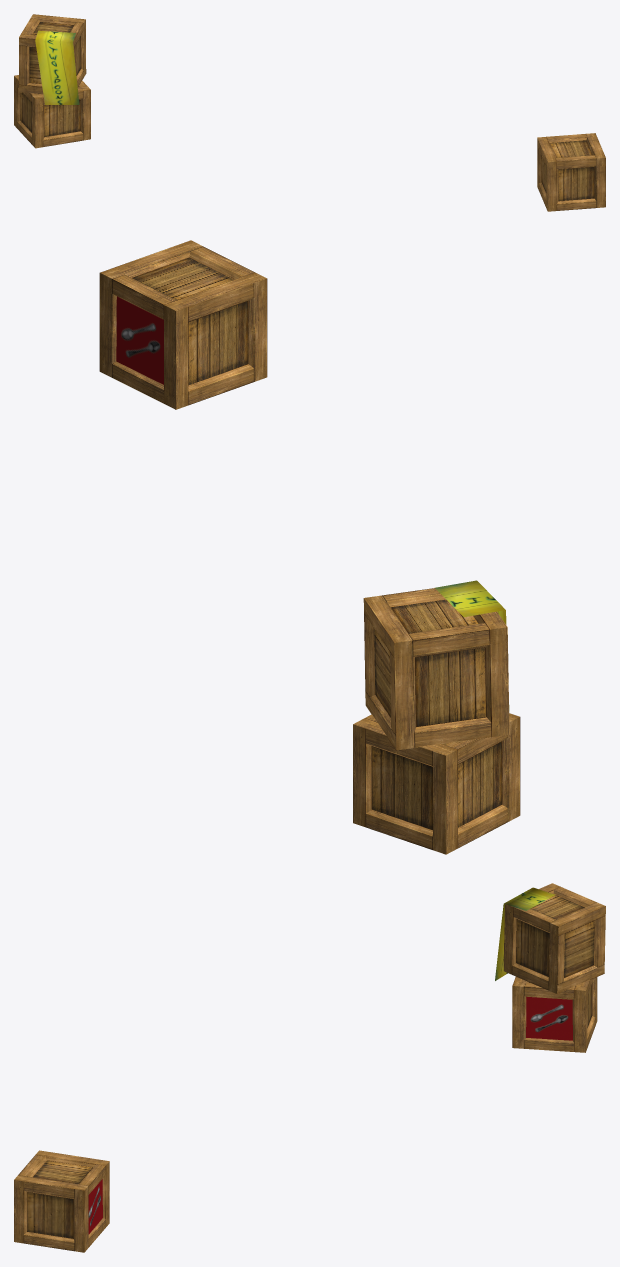
Rendered from Crates.fbx.
3 renders of one model, top to bottom at view 1: azimuth 30°, elevation 25°; view 2: azimuth 150°, elevation 25°; view 3: azimuth 270°, elevation 25°, orthographic. The views are drawn at different scales.
Parts seen in each view (by area): view 1: Crate (×3), Banner_Green; view 2: Crate (×3), Side, Banner_Green; view 3: Crate (×3), Side (×2), Banner_Green.
Boxes of the visible parts, bbox=[...] form: Crate (×3): bbox=[14, 14, 605, 211]; Banner_Green: bbox=[35, 30, 79, 104]; Crate (×3): bbox=[99, 240, 520, 854]; Side: bbox=[116, 296, 163, 384]; Banner_Green: bbox=[435, 580, 509, 710]; Crate (×3): bbox=[14, 883, 605, 1252]; Side (×2): bbox=[88, 996, 572, 1234]; Banner_Green: bbox=[495, 887, 555, 980].
Size of the model in its own units: 9.06 by 2.32 by 9.47.
